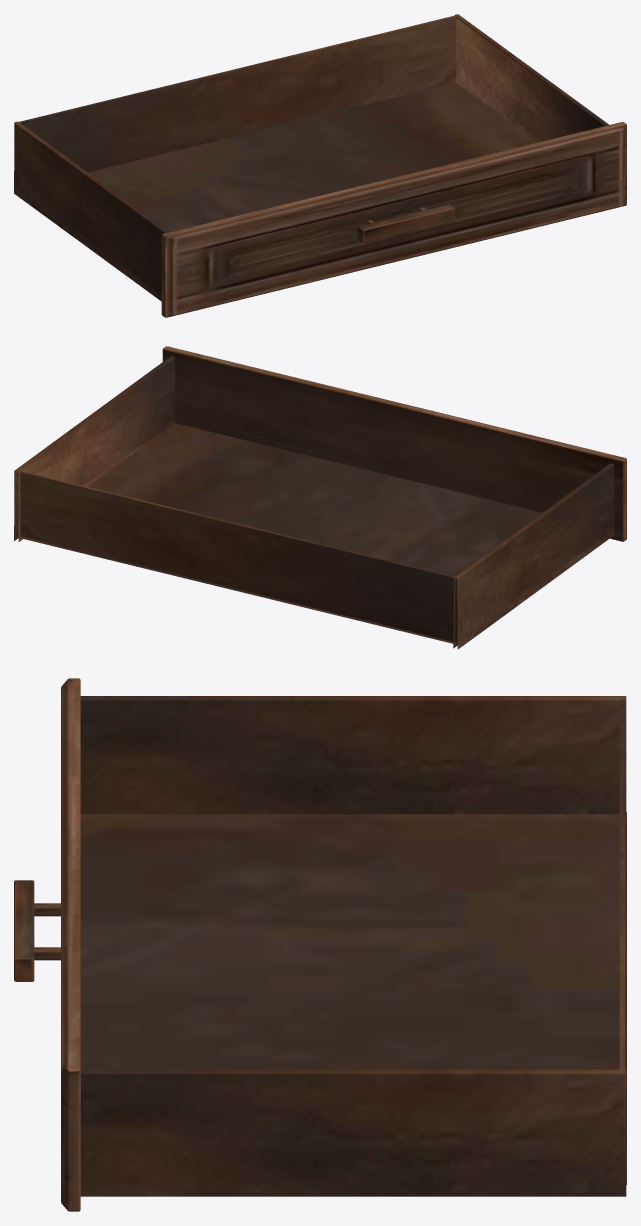
The model's file is table_drawer.FBX.
The picture shows the model from 3 angles, top to bottom: view 1: azimuth 30°, elevation 25°; view 2: azimuth 150°, elevation 25°; view 3: azimuth 270°, elevation 25°; orthographic projection. The views are drawn at different scales.
Visible parts, largest first — view 1: table_drawer; view 2: table_drawer; view 3: table_drawer.
Part boxes in pixels (x1,y1,x2,y2): table_drawer: (14, 14, 626, 317); table_drawer: (14, 346, 626, 649); table_drawer: (14, 678, 626, 1211).
Bounding box in the file's own units: 133 × 22.41 × 87.72.
1 material, 1 textured.
